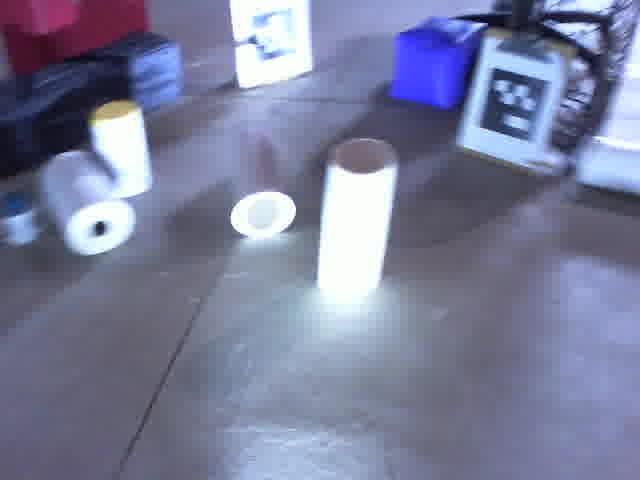coral: (320, 130, 402, 309), (225, 125, 298, 237), (575, 134, 640, 199)
